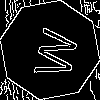W: (25, 25, 79, 81)
